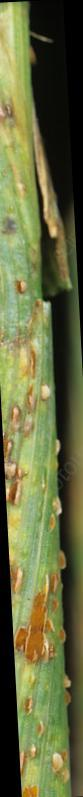Sugarcane: (0, 233, 75, 762)
